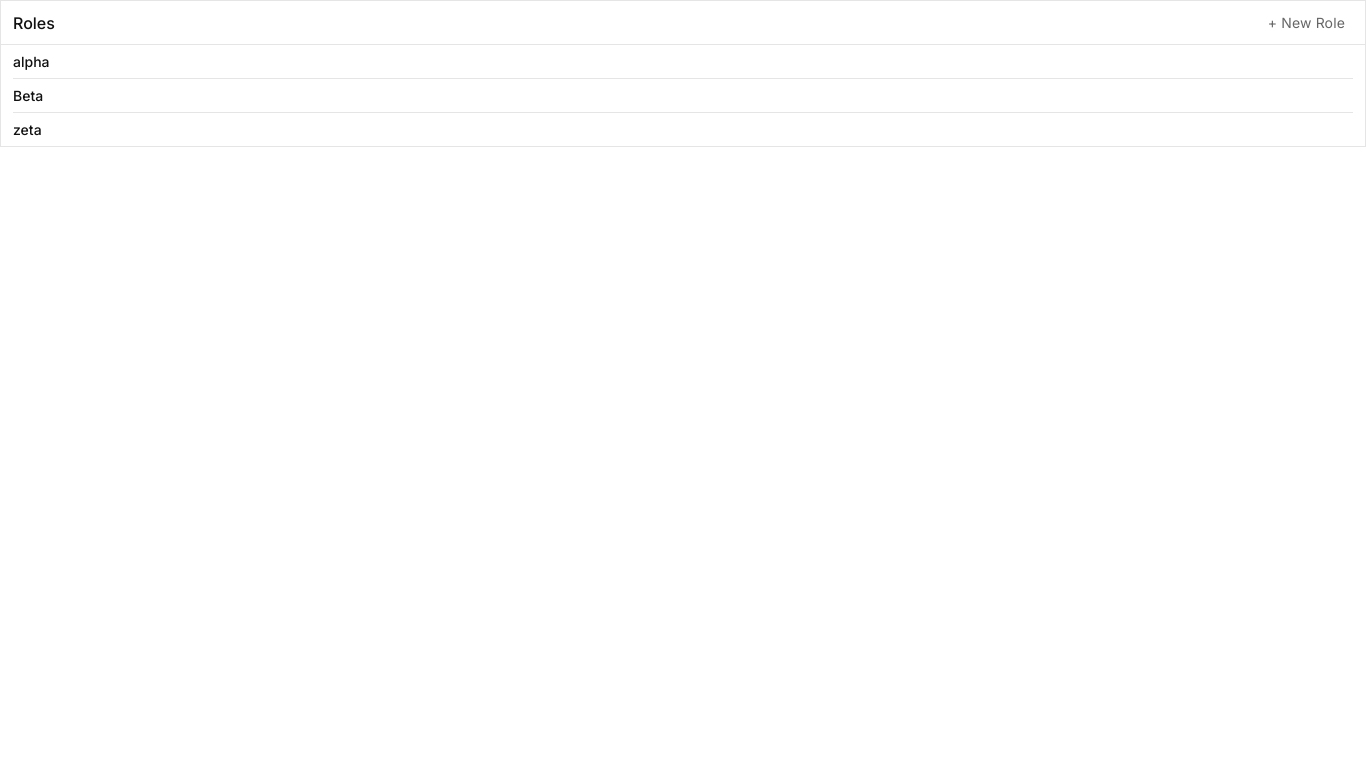
RolesPanel › A5: the detail sheet › A5: tapping a row opens a sheet holding RoleDetailView with its delete
Check: the text "alpha" is shown, box [13, 53, 50, 70]
Click the button "alpha". click: click(31, 62)
box: [13, 53, 1353, 70]
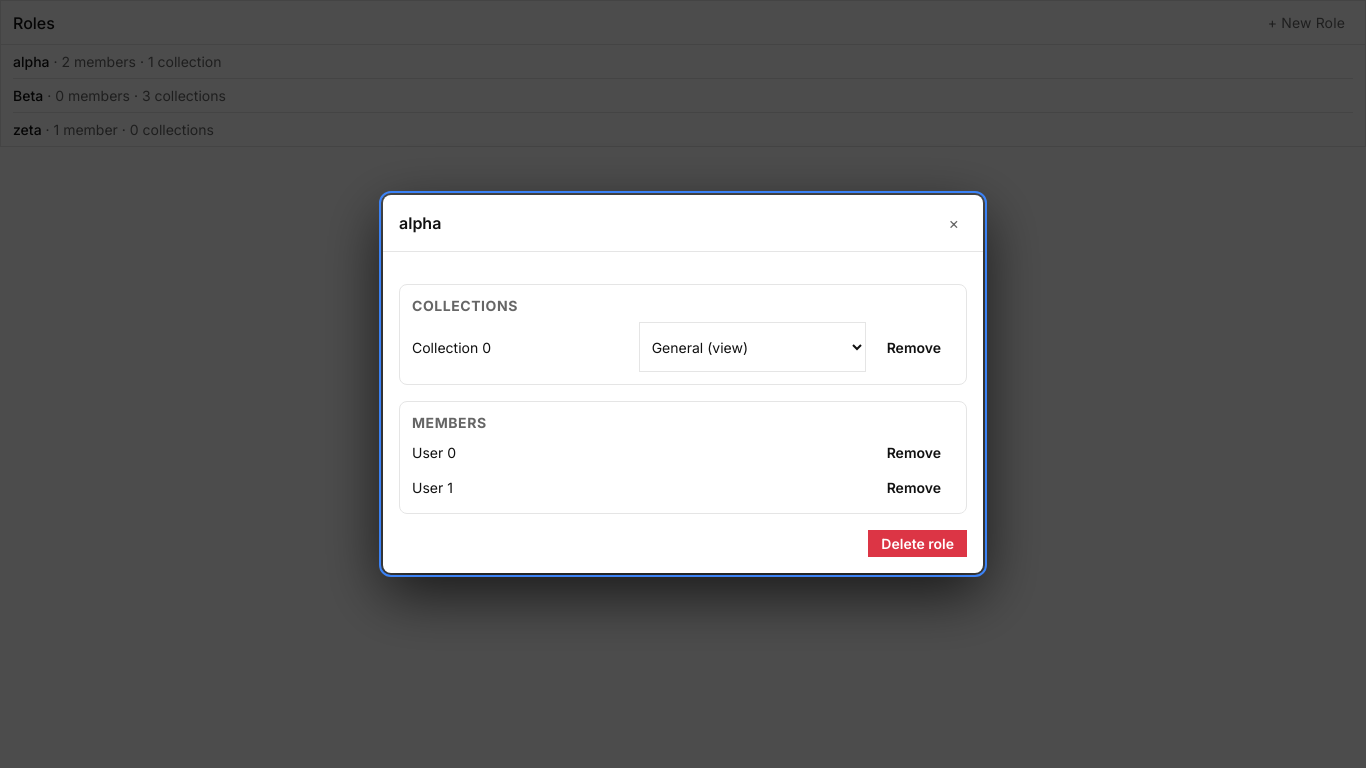
Check: the heading "Collections" is shown, box [412, 297, 518, 314]
Check: the button "Delete role" is shown, box [868, 530, 967, 557]
